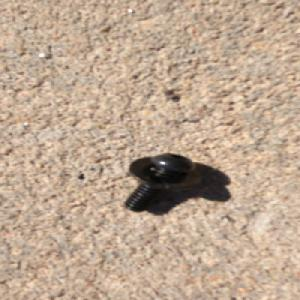BoltWasher: (121, 151, 205, 213)
